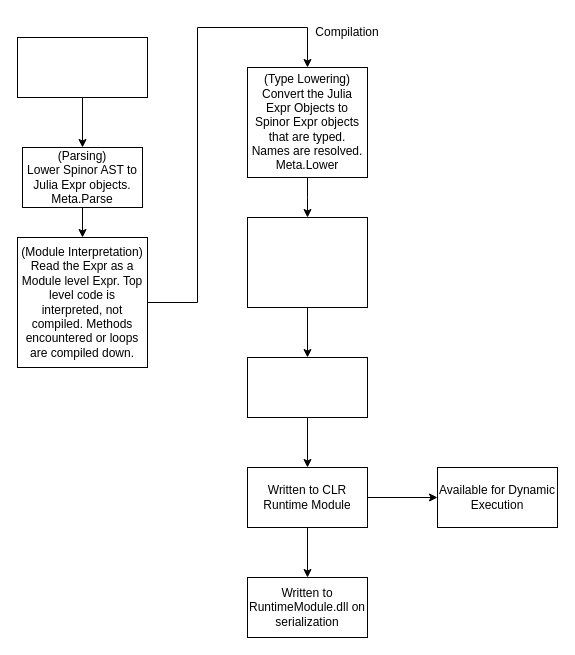
This 575x655 diagram has some shape labels left out. Here are the shapes that lost their labels. From the top down, the centre of each, then its label:
At point 82,67: "Evaluate String Using Spinor Parser.".
At point 307,262: "(Optimization) Spinor Exprs are optimized. Meta.Optimize".
At point 307,387: "(Compilation) Spinor Exprs are converted into CLR code.".
